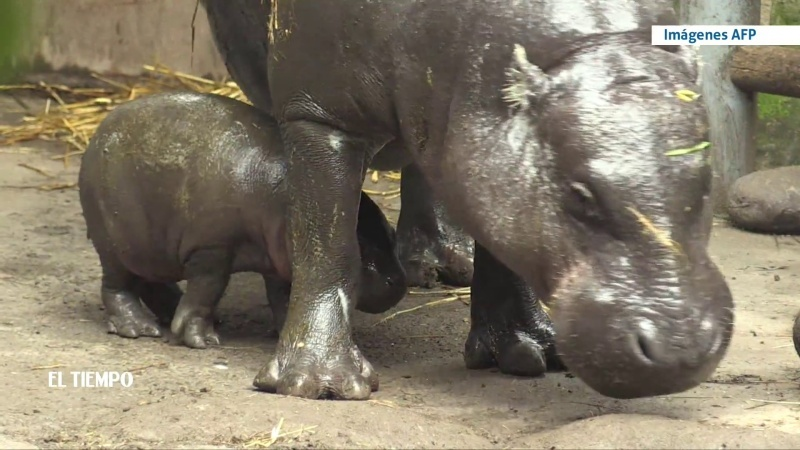hipopotamo: (194, 1, 742, 414), (62, 79, 420, 368)
